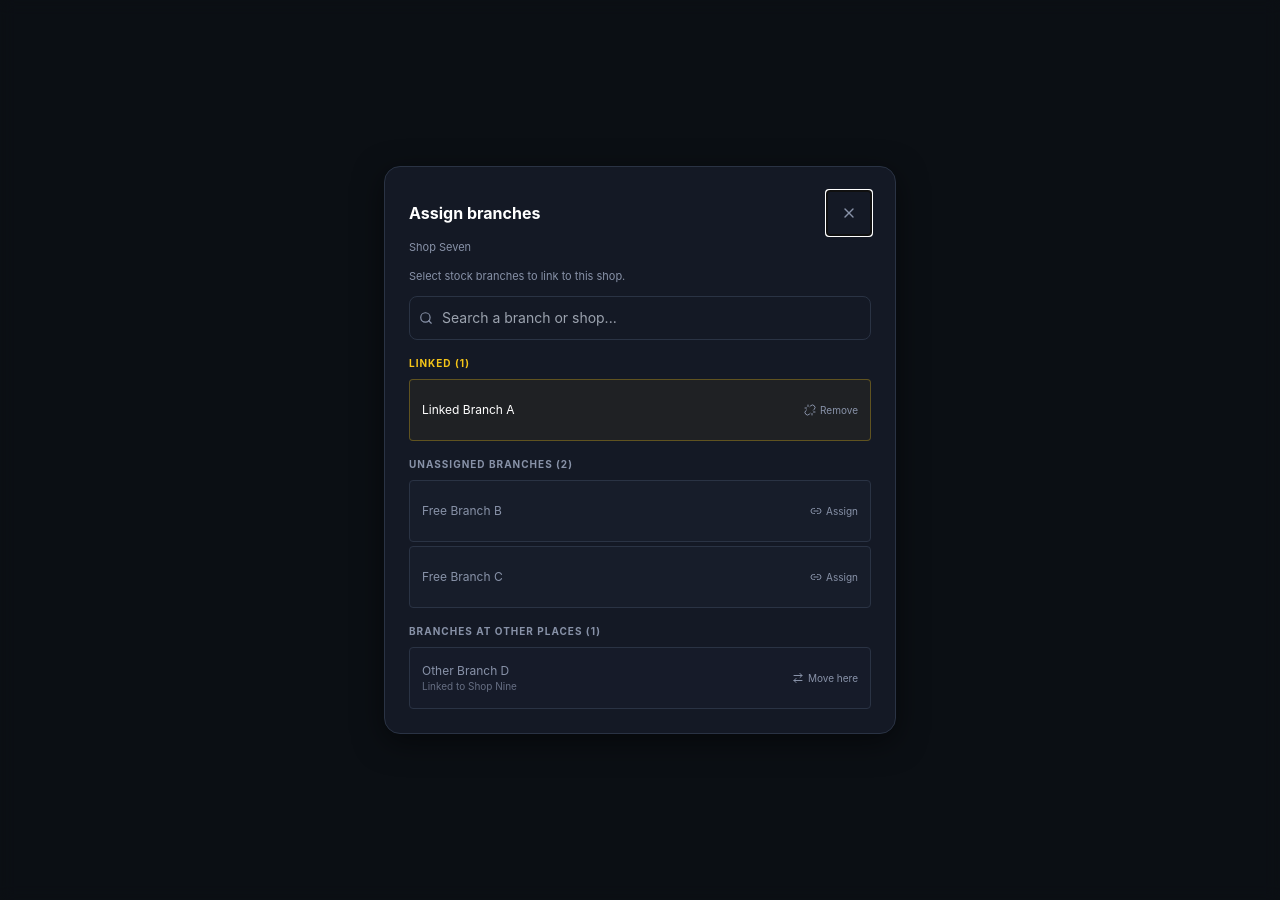
Scenario: AssignProviderDialog branches › surfaces an error when moving from another place fails
Click the button "Move here" at (825, 678), box [792,656,858,700]
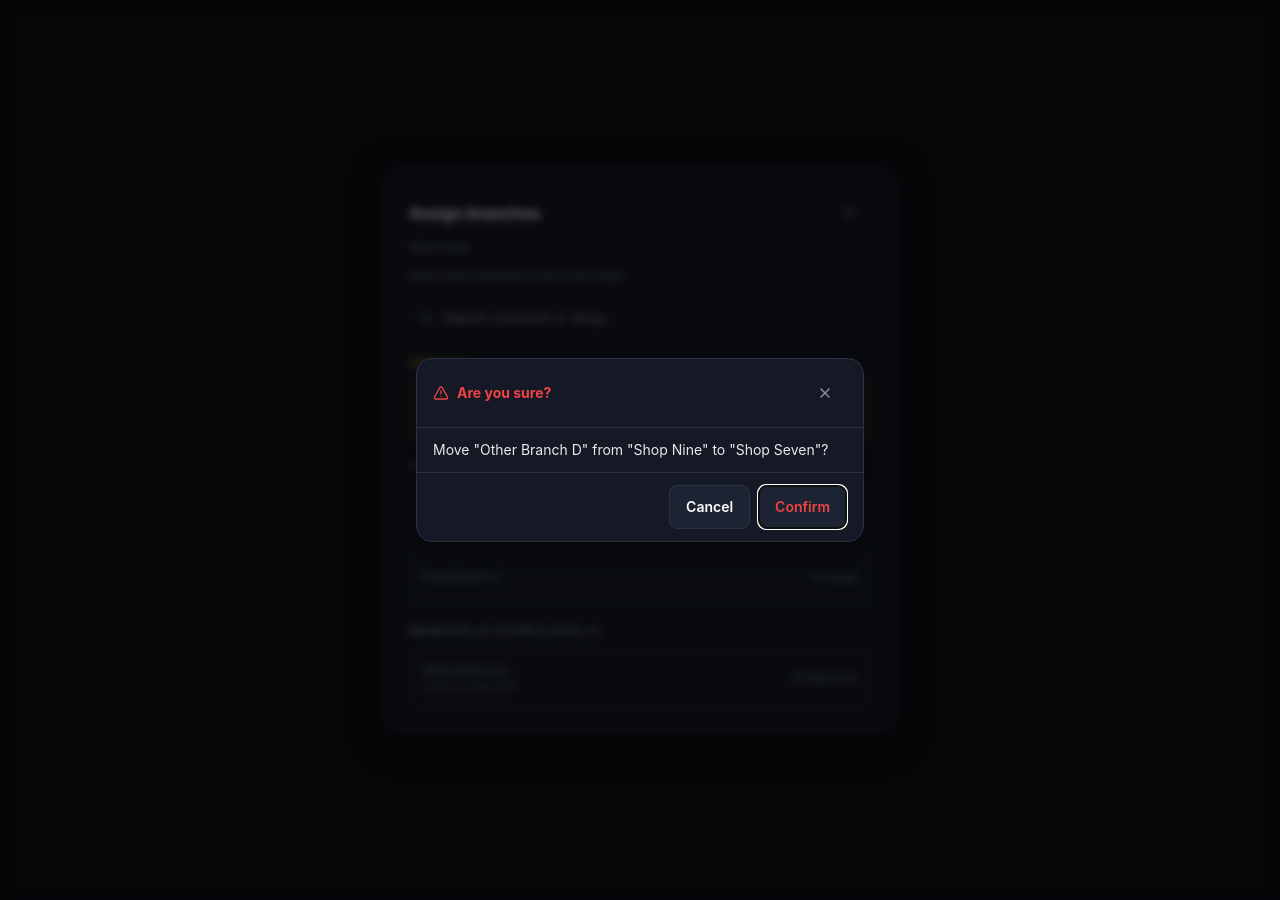
Click the button "Confirm" at (803, 507), box [758,485,847,529]
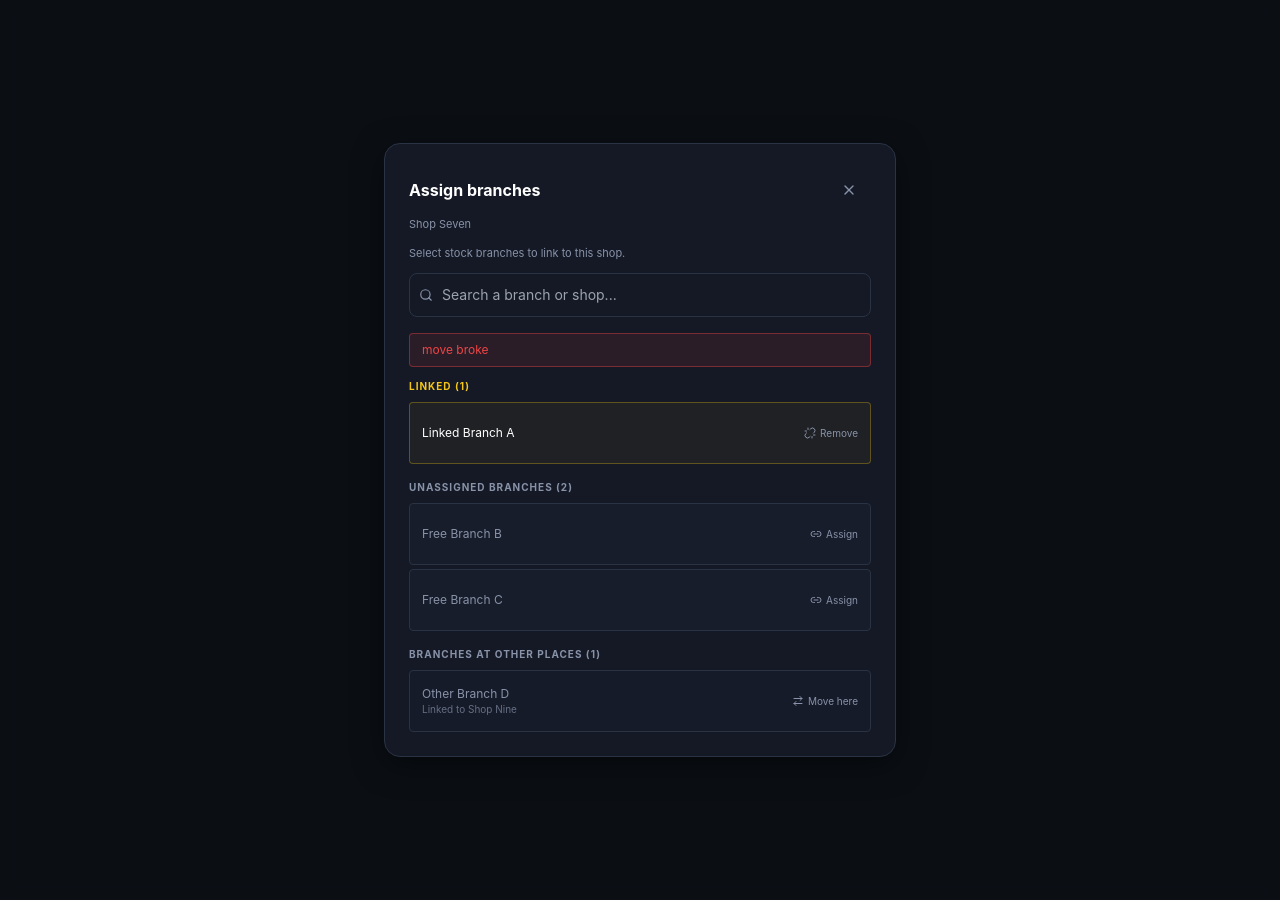
Expected: the message reads "move broke", [422,342,488,357]
